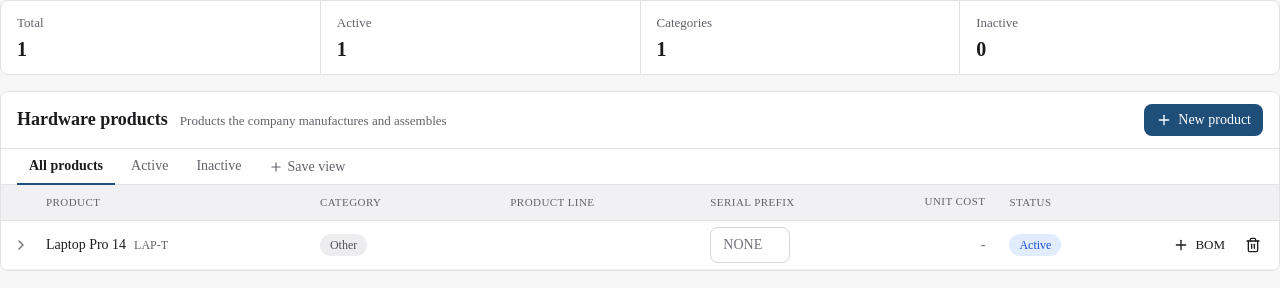
Test: hardware products: the serial prefix (3 Nov 2026) › edits the prefix in the list: letters only, upper case, saved on blur
Type "ds-k1" into the field named "Serial prefix of Laptop Pro 14". click: (750, 244)
box: [710, 226, 790, 262]
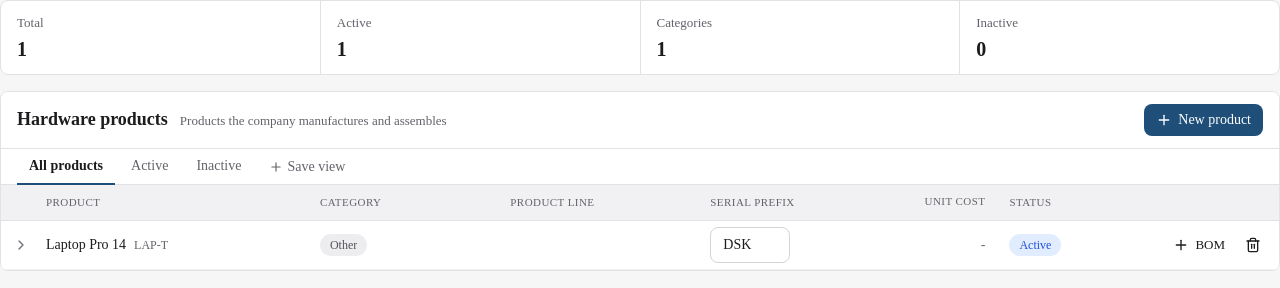
Result: the field named "Serial prefix of Laptop Pro 14" holds "DSK" at [710, 226, 790, 262]
